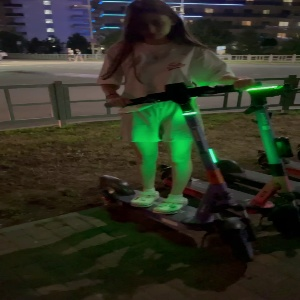human on a scooter: (97, 1, 263, 265)
